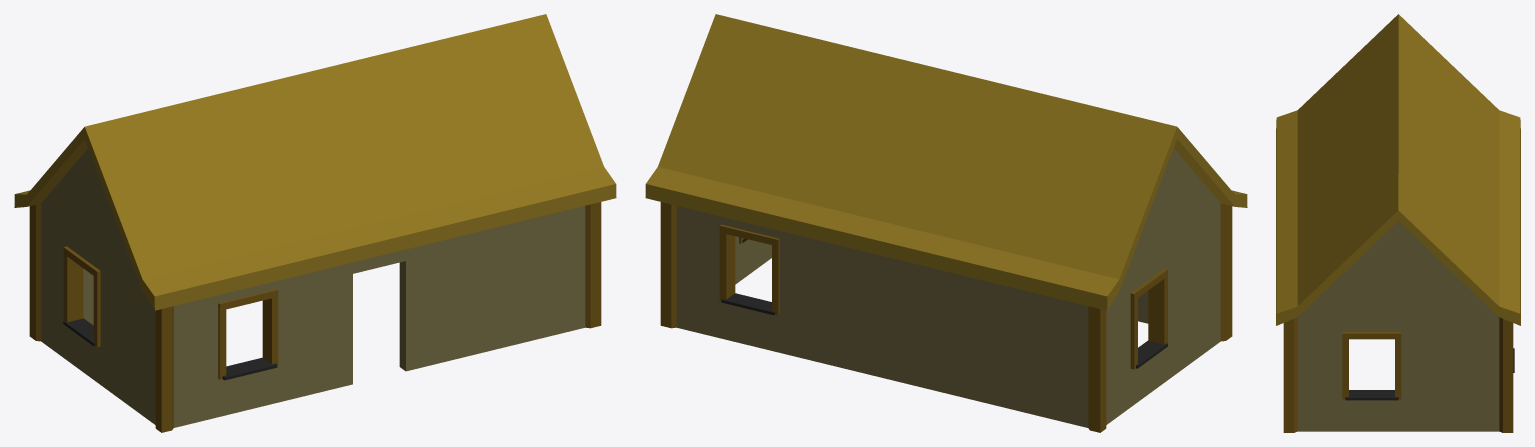
Rendered from cabin.dae.
The picture shows the model from 3 angles, left to right: view 1: azimuth 30°, elevation 25°; view 2: azimuth 150°, elevation 25°; view 3: azimuth 270°, elevation 25°; orthographic projection. The views are drawn at different scales.
Visible parts, largest first — view 1: Cube_004; view 2: Cube_004; view 3: Cube_004.
Boxes of the visible parts, <box> form: Cube_004: <box>14,14,616,432</box>; Cube_004: <box>645,14,1247,432</box>; Cube_004: <box>1276,14,1520,432</box>.
Bounding box in the file's own units: 8.75 × 4.61 × 4.72.
